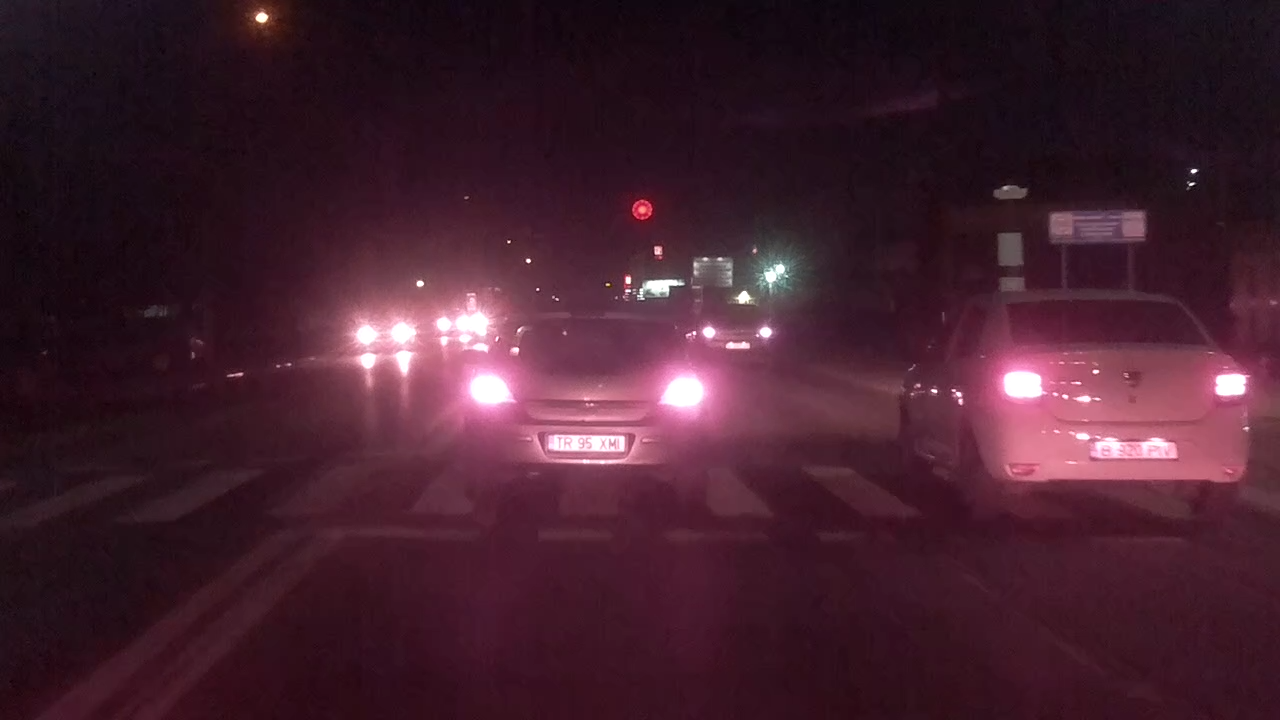license-plate: (1087, 437, 1183, 463), (542, 430, 628, 455)
